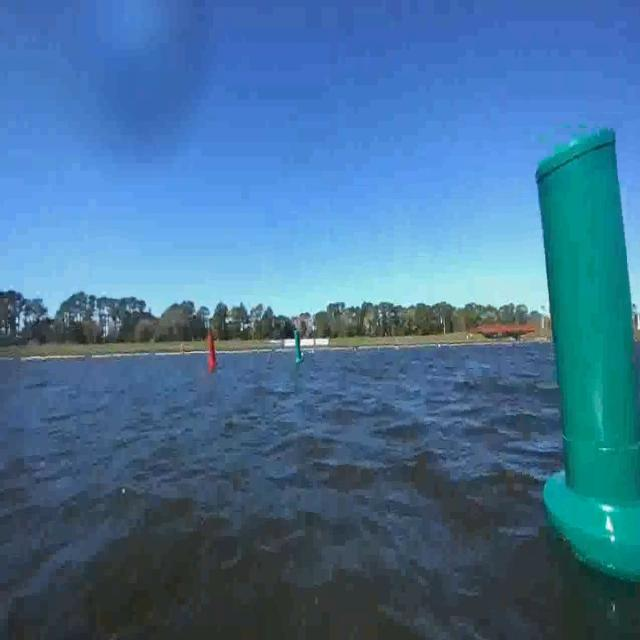green-column-buoy: (526, 149, 640, 590), (288, 316, 312, 372)
red-column-buoy: (204, 326, 225, 374)
